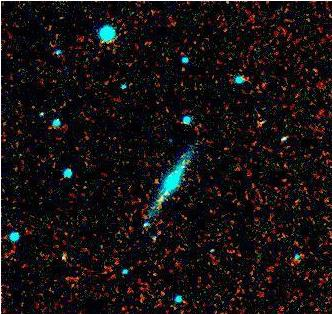star: (143, 187, 173, 217)
